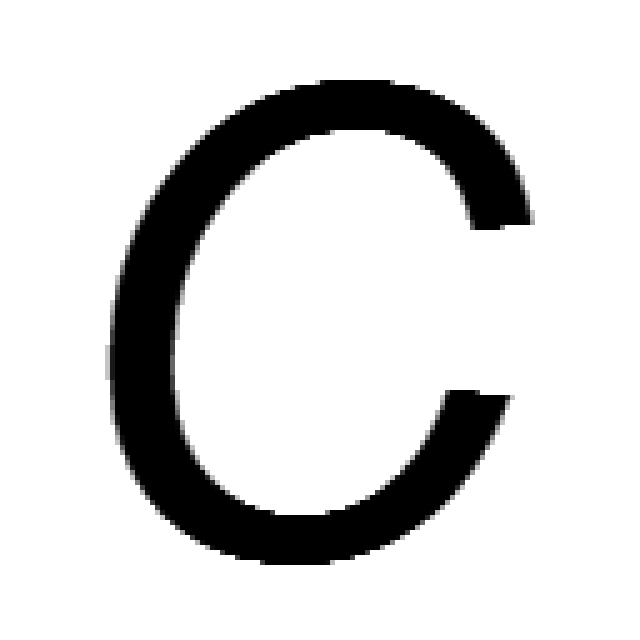C: (105, 80, 535, 570)
